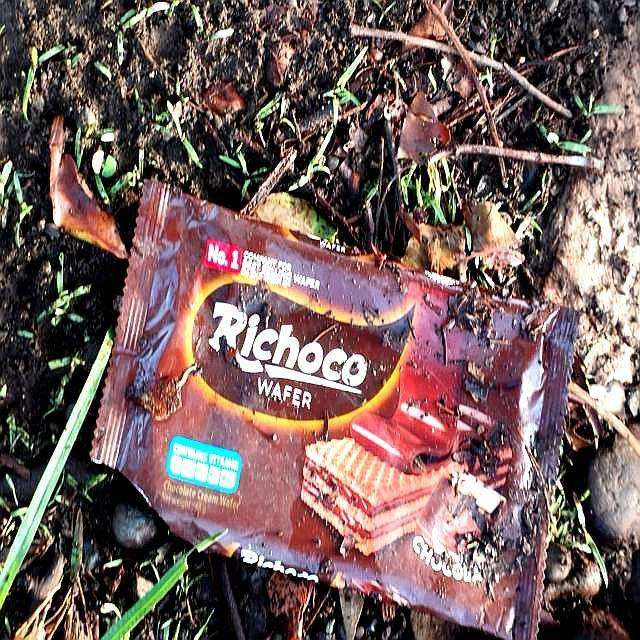Non-biodegradable: (77, 171, 587, 640)
